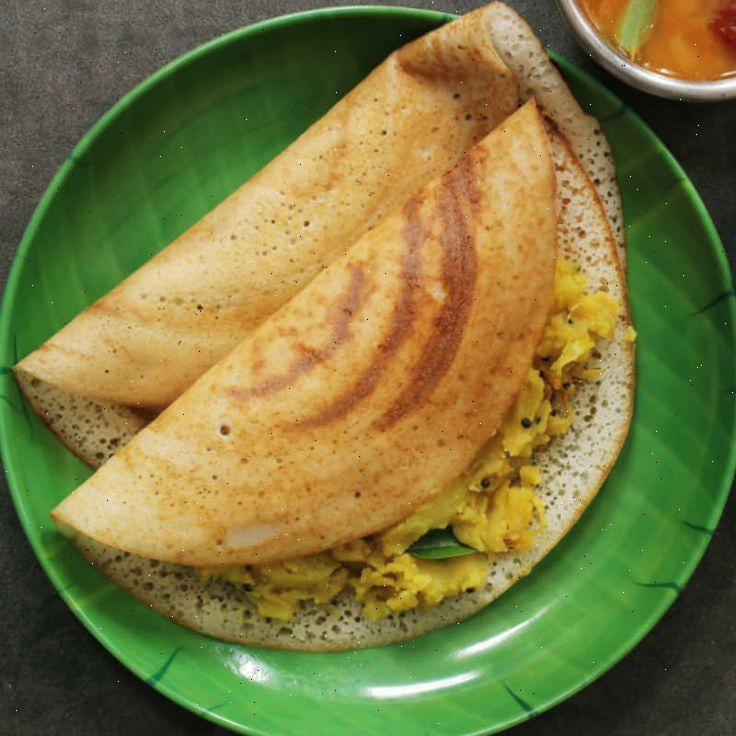dosa: (3, 30, 676, 656)
